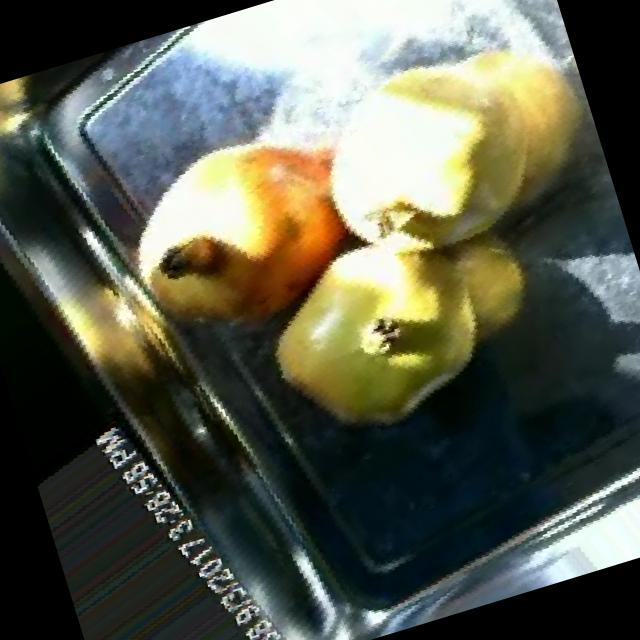fruit: (74, 75, 403, 392), (212, 217, 472, 477)
